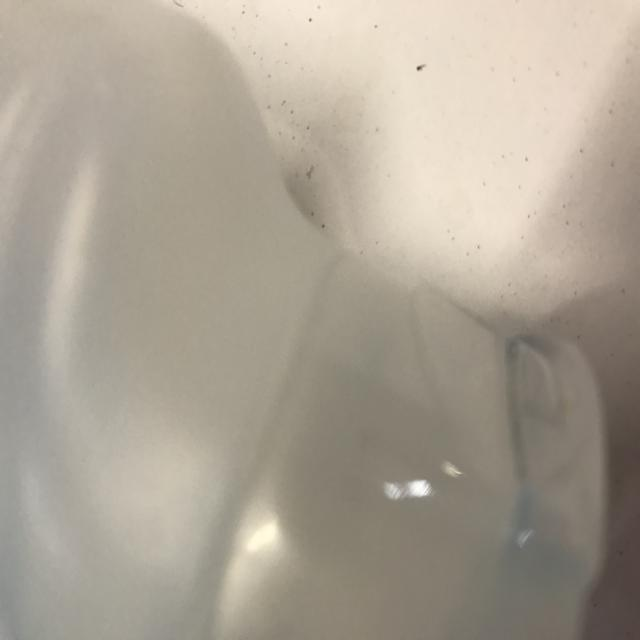plastic: (0, 1, 609, 640)
